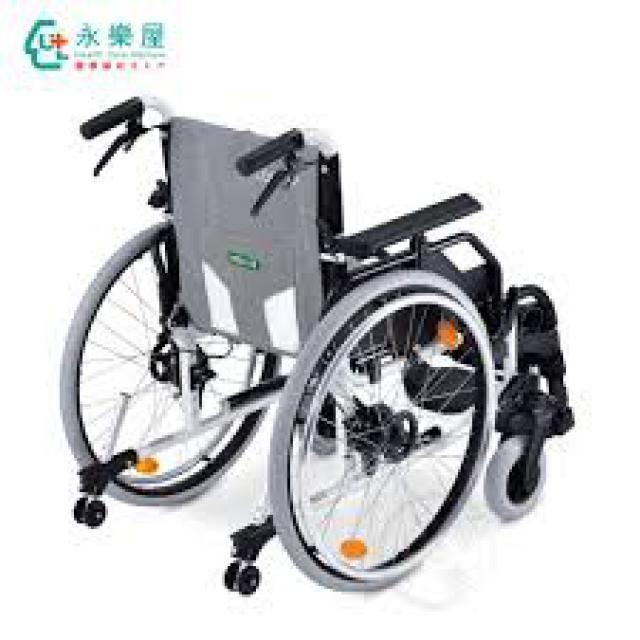wheelchairs: (56, 89, 579, 599)
